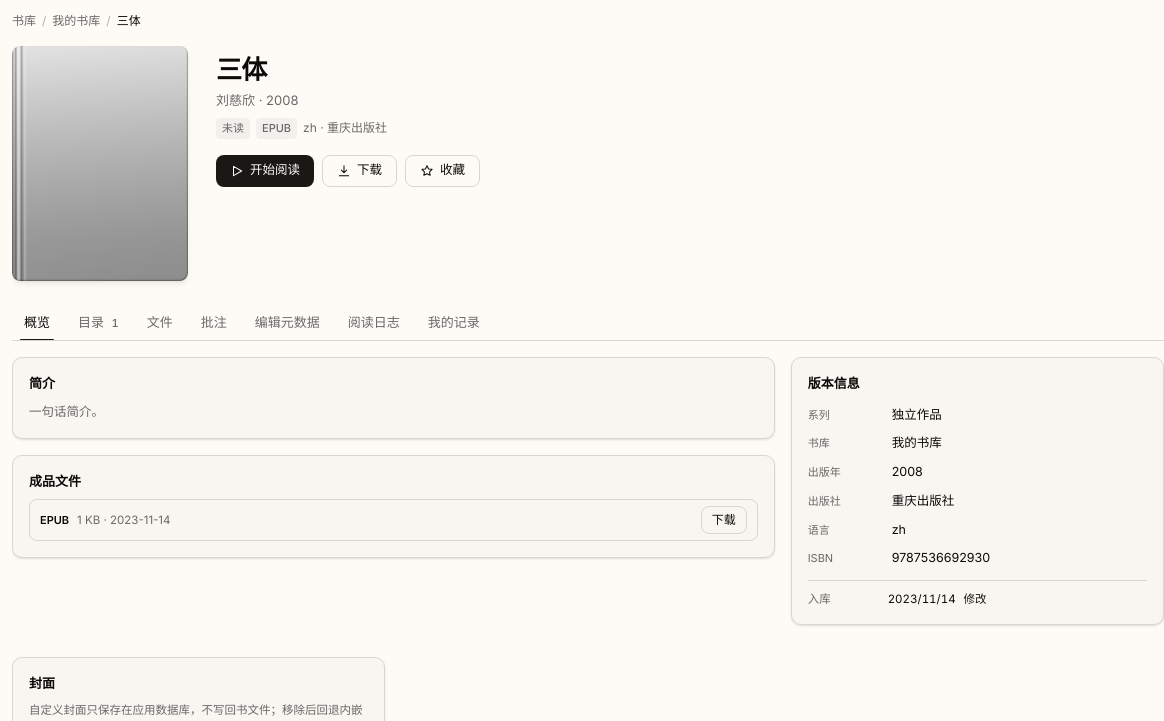
Test: BookDetailView › 标签栏按目录章节数显示条数，切换后显示对应标签的内容
Click the button "文件". click: [160, 322]
box: left=135, top=305, right=185, bottom=340
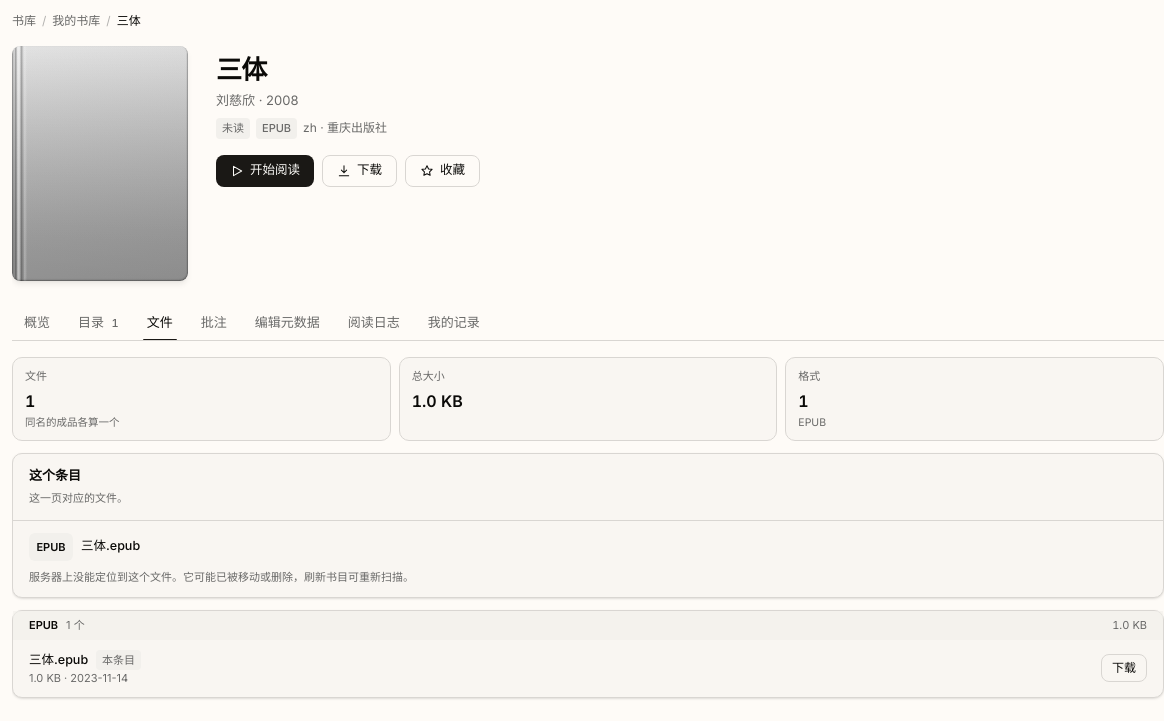
Check: the text "三体.epub" is shown, box left=81, top=538, right=140, bottom=553
